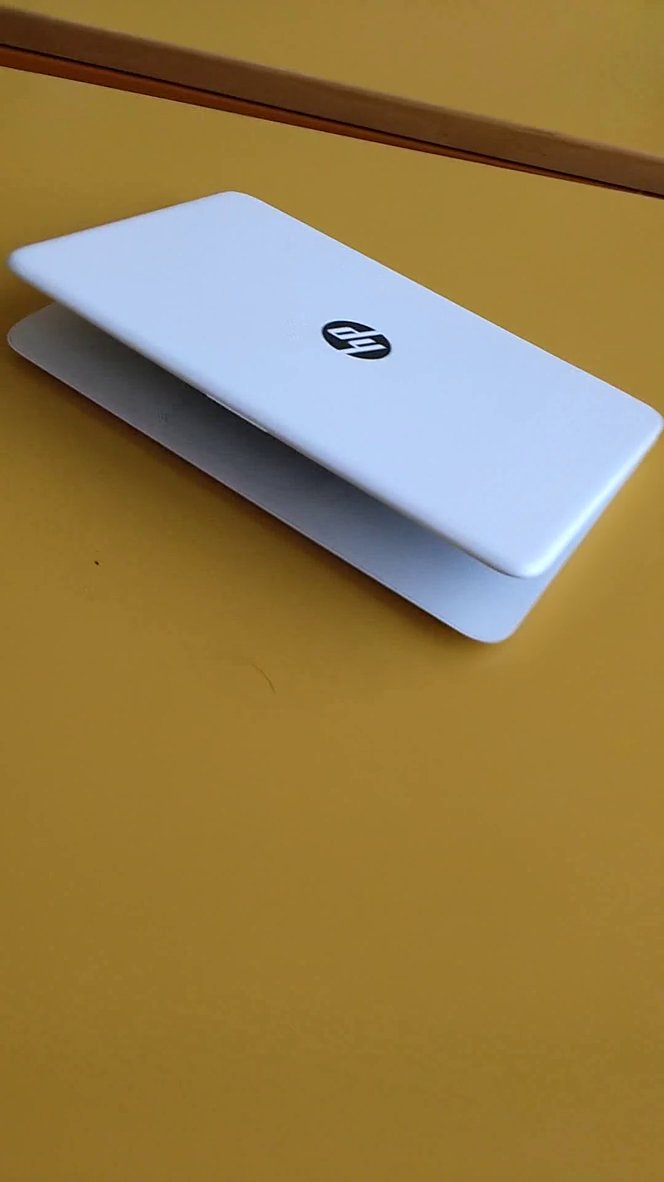laptop: (4, 163, 664, 678)
